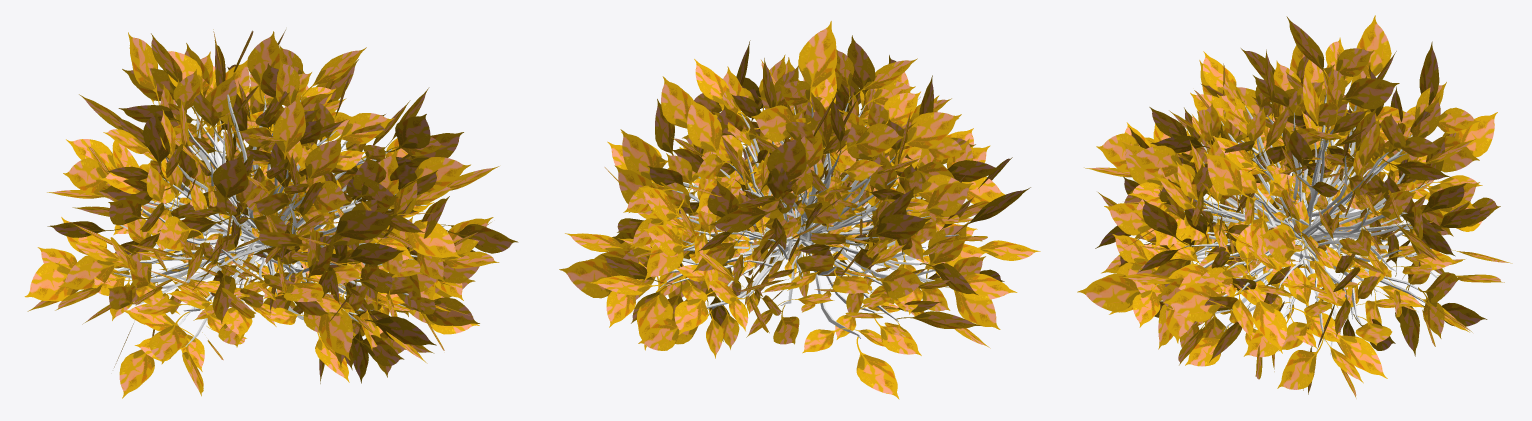
File: yellowbush6.fbx
3 views of the same model, side by side, from view 1: azimuth 30°, elevation 25°; view 2: azimuth 150°, elevation 25°; view 3: azimuth 270°, elevation 25° (orthographic). The views are drawn at different scales.
Visible parts, largest first — view 1: pCylinder1056; view 2: pCylinder1056; view 3: pCylinder1056.
Part boxes in pixels (bbox=[...]): pCylinder1056: bbox=[24, 29, 518, 398]; pCylinder1056: bbox=[559, 21, 1040, 399]; pCylinder1056: bbox=[1077, 15, 1512, 398].
Size of the model in its own units: 20.4 by 15.96 by 18.99.
